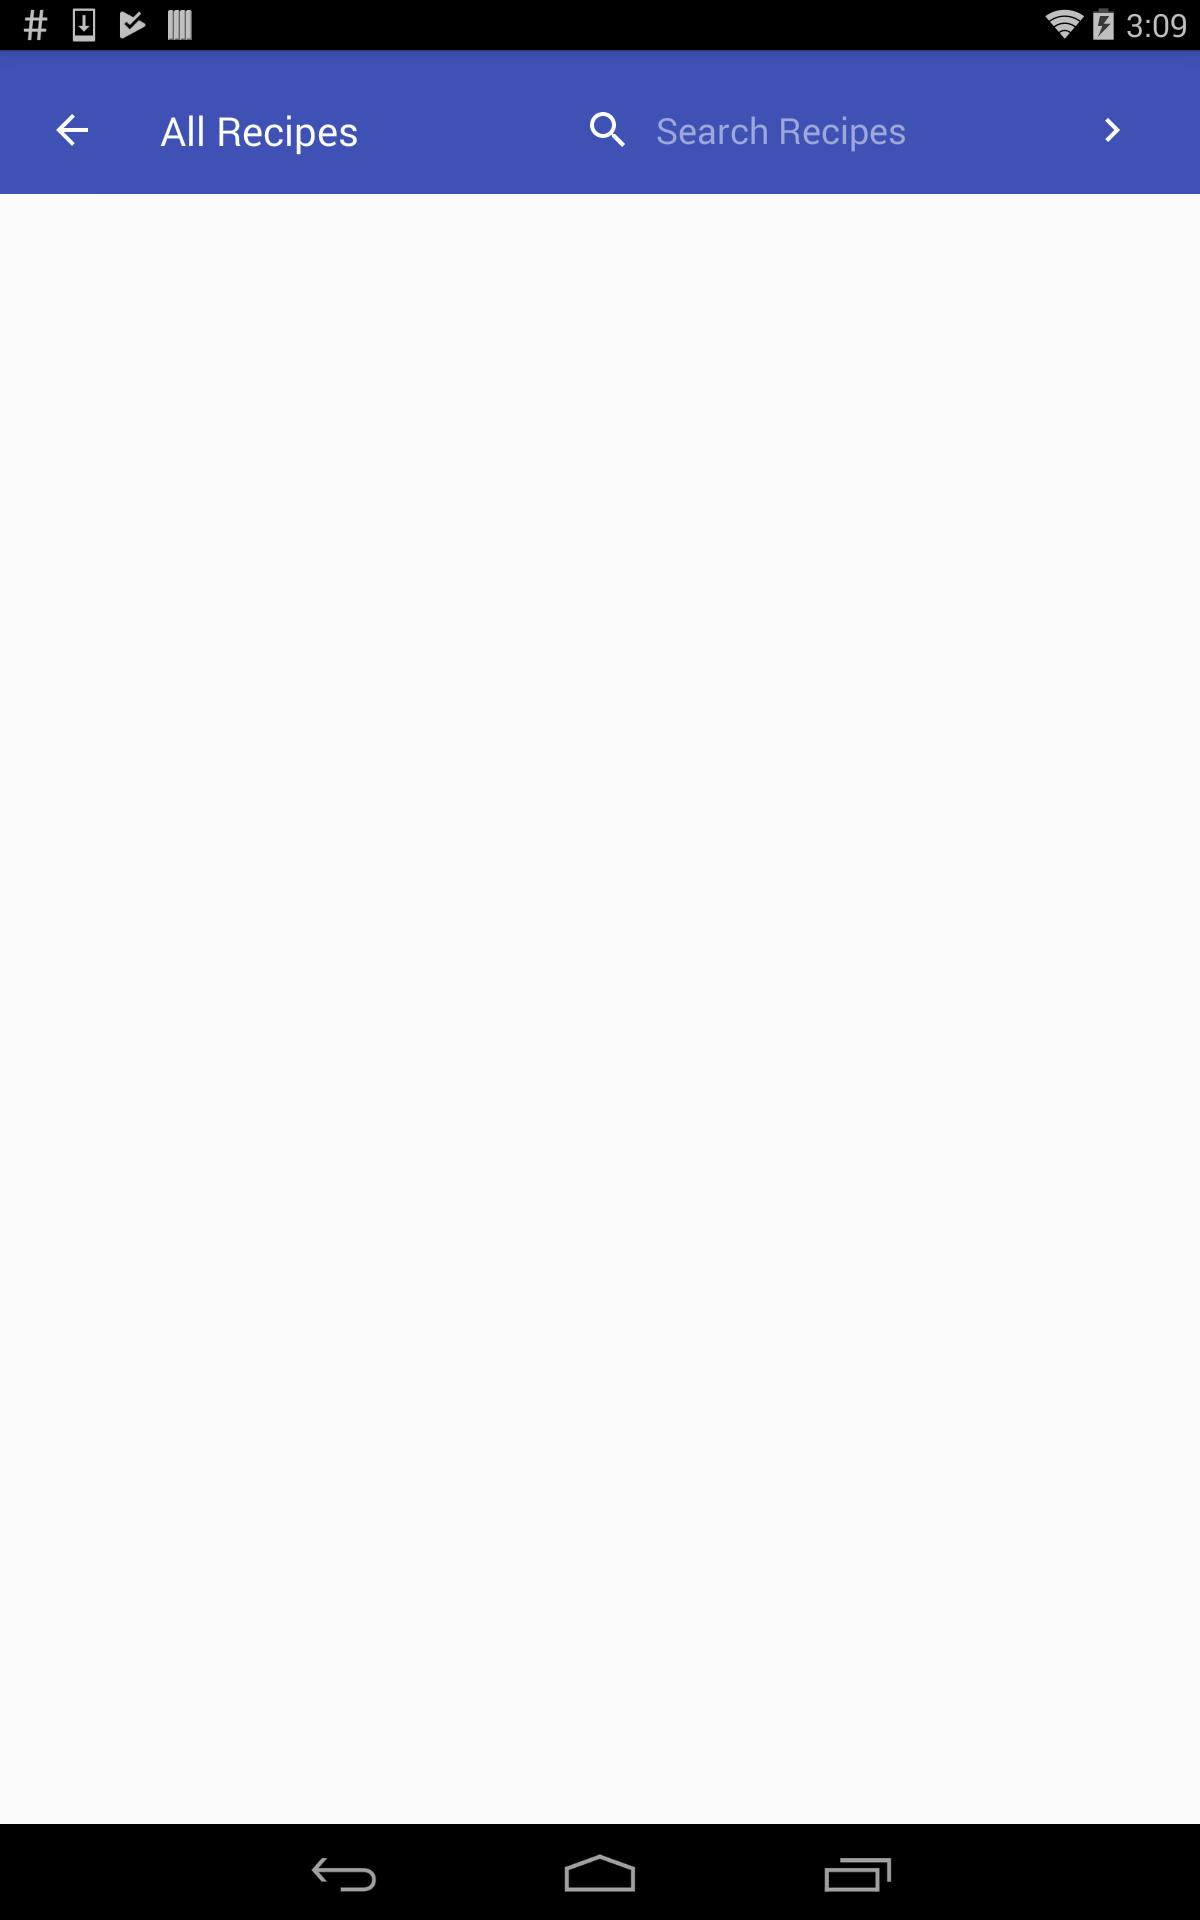android.support.v7.widget.LinearLayoutCompat: (543, 66, 1183, 194), (543, 82, 1183, 178)
android.view.View: (0, 66, 1200, 194)
android.widget.EditText: (640, 94, 1056, 166)
android.widget.FrameLayout: (0, 0, 1200, 1825), (0, 50, 1200, 1825)
android.widget.ImageButton: (17, 66, 129, 194)
android.widget.ImageView: (1056, 82, 1168, 178), (576, 106, 640, 153)
android.widget.LinearLayout: (0, 0, 1200, 1825), (0, 50, 1200, 1825), (0, 50, 1200, 194), (543, 82, 1183, 178), (560, 82, 1168, 178), (640, 82, 1056, 178), (1056, 82, 1168, 178)
android.widget.TextView: (160, 104, 359, 158)
